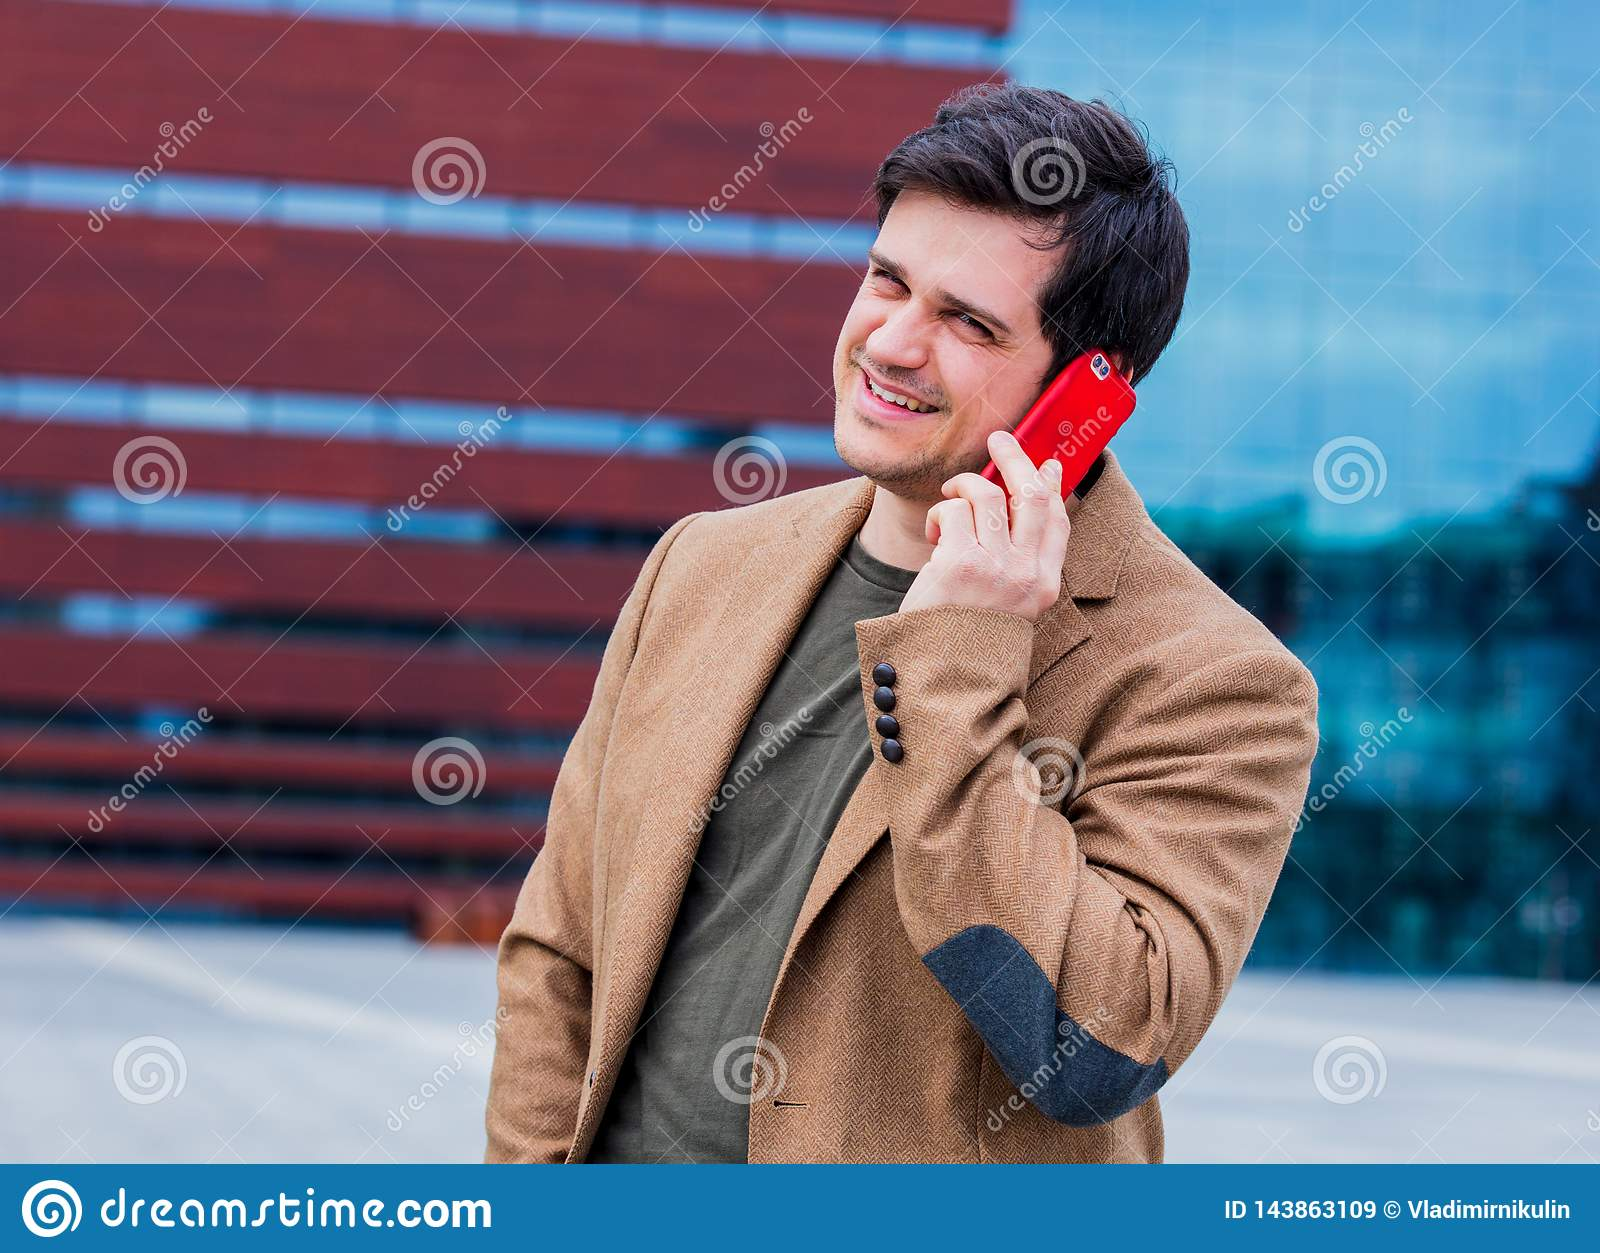phone: (964, 345, 1138, 528)
talk: (829, 236, 1136, 630)
